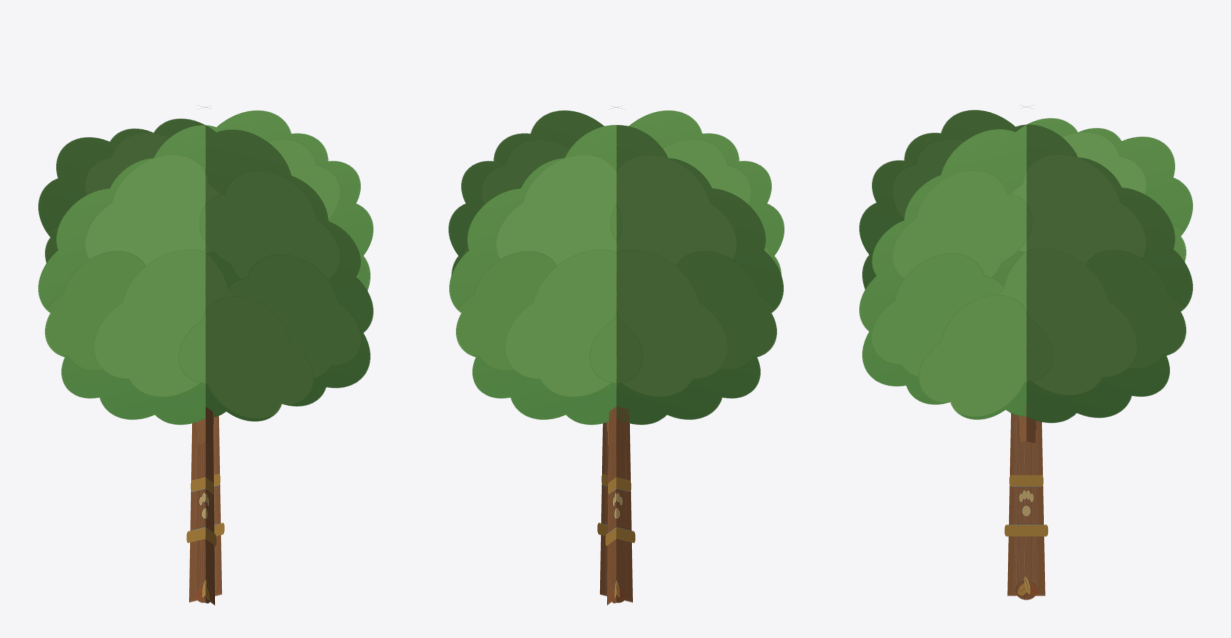
File: nyanisyarud-tree-big-green.glb
3 renders of one model, left to right at view 1: azimuth 30°, elevation 25°; view 2: azimuth 150°, elevation 25°; view 3: azimuth 270°, elevation 25°, orthographic.
Visible parts, largest first — view 1: Tree_Large_Fluffy_Green; view 2: Tree_Large_Fluffy_Green; view 3: Tree_Large_Fluffy_Green.
Boxes of the visible parts, left/top/right/bottom form: Tree_Large_Fluffy_Green: left=38, top=107, right=373, bottom=605; Tree_Large_Fluffy_Green: left=448, top=107, right=784, bottom=605; Tree_Large_Fluffy_Green: left=859, top=106, right=1192, bottom=599.
Size of the model in its own units: 2.5 by 3.12 by 2.17.
2 materials, 2 textured.
